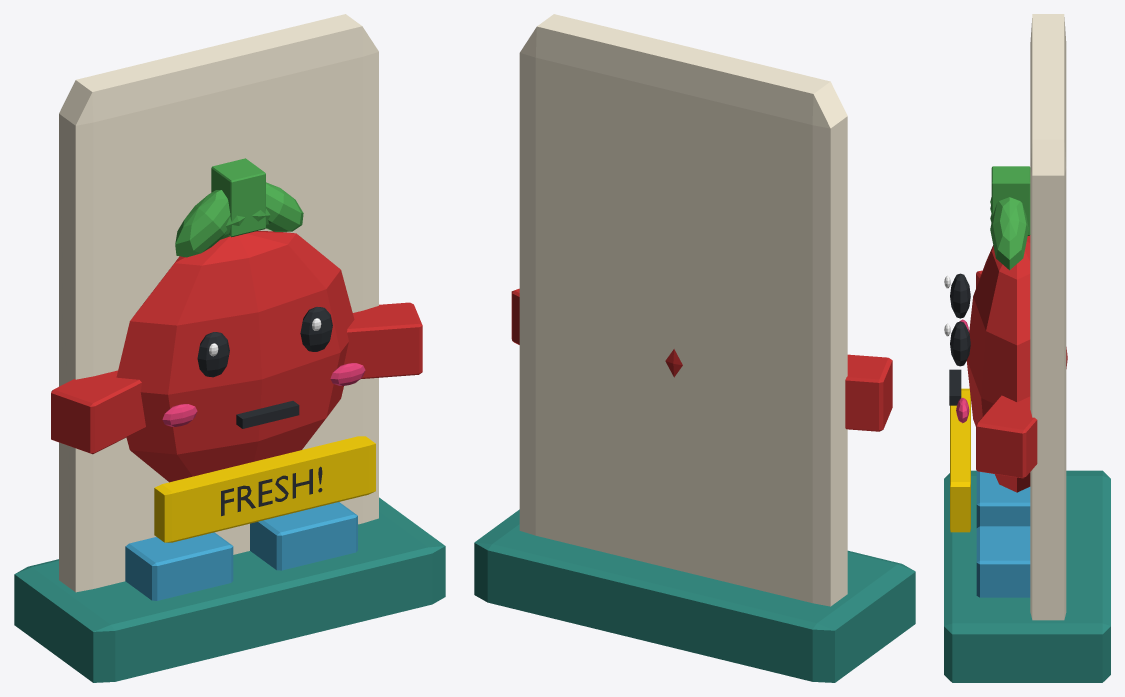
Rendered from mascot_standee.glb.
3 views of the same model, side by side, from view 1: azimuth 30°, elevation 25°; view 2: azimuth 150°, elevation 25°; view 3: azimuth 270°, elevation 25° (orthographic). The views are drawn at different scales.
Visible parts, largest first — view 1: Mascot backing, Mascot tomato body, Mascot base, Mascot welcome plaque, Mascot arm, Mascot shoe, Mascot shoe.001, Mascot arm.001, Mascot stem, Mascot leaf, Mascot leaf.003, Sign FRESH! (+3 smaller); view 2: Mascot backing, Mascot base, Mascot arm; view 3: Mascot base, Mascot backing, Mascot tomato body, Mascot arm.001, Mascot shoe.001, Mascot welcome plaque, Mascot shoe, Mascot leaf.003, Mascot stem, Mascot eye.001, Mascot eye, Mascot smile (+1 smaller).
Boxes of the visible parts, <box> form: Mascot backing: <box>59,14,378,592</box>; Mascot tomato body: <box>116,231,354,482</box>; Mascot base: <box>14,497,445,682</box>; Mascot welcome plaque: <box>154,436,375,542</box>; Mascot arm: <box>51,370,145,454</box>; Mascot shoe: <box>125,532,233,600</box>; Mascot shoe.001: <box>250,502,357,570</box>; Mascot arm.001: <box>344,302,422,379</box>; Mascot stem: <box>211,158,265,237</box>; Mascot leaf: <box>175,190,230,257</box>; Mascot leaf.003: <box>266,182,303,231</box>; Sign FRESH!: <box>221,466,322,516</box>; Mascot backing: <box>519,14,847,606</box>; Mascot base: <box>474,509,915,682</box>; Mascot arm: <box>845,354,892,431</box>; Mascot base: <box>944,470,1110,682</box>; Mascot backing: <box>1030,14,1066,620</box>; Mascot tomato body: <box>966,235,1067,492</box>; Mascot arm.001: <box>976,395,1037,478</box>; Mascot shoe.001: <box>976,526,1030,597</box>; Mascot welcome plaque: <box>950,388,970,532</box>; Mascot shoe: <box>976,471,1030,527</box>; Mascot leaf.003: <box>990,197,1028,270</box>; Mascot stem: <box>991,166,1030,235</box>; Mascot eye.001: <box>950,321,970,366</box>; Mascot eye: <box>950,273,970,318</box>; Mascot smile: <box>949,369,961,405</box>.
Bounding box in the file's own units: 1.34 × 1.95 × 0.56.
